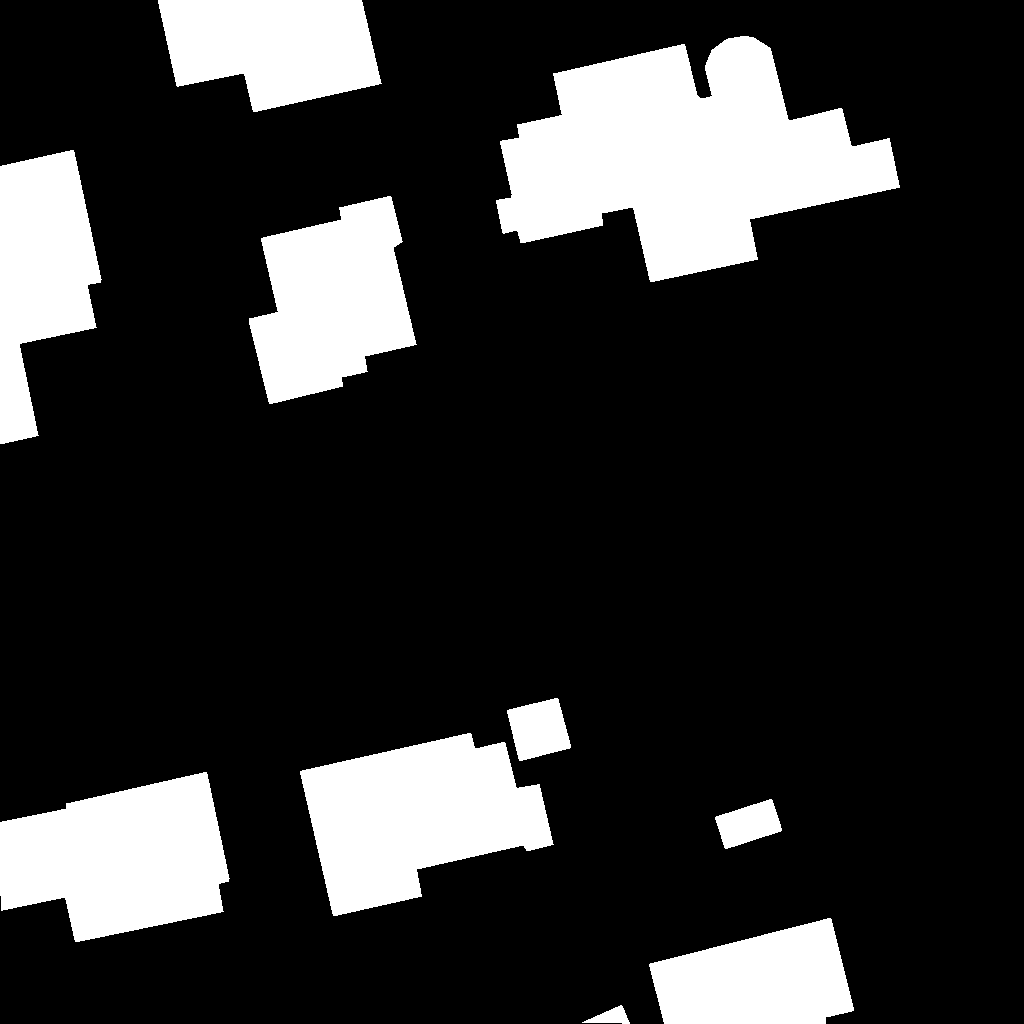building: (496, 36, 901, 283), (300, 733, 554, 917), (0, 772, 230, 943), (249, 196, 417, 405), (0, 150, 102, 445), (158, 0, 382, 113), (649, 918, 855, 1024), (507, 698, 572, 762), (715, 799, 783, 850), (581, 1005, 631, 1024)
